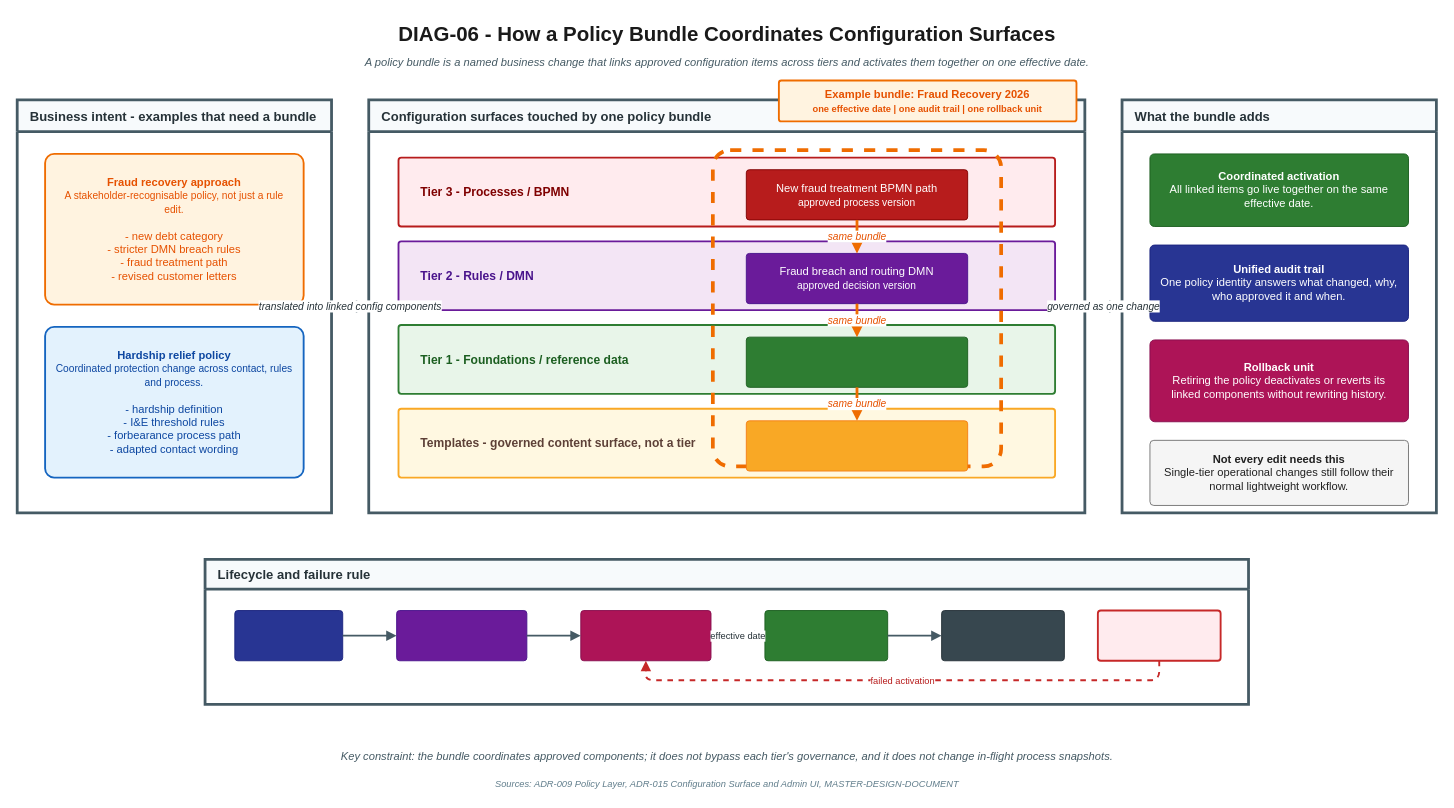
Image size: 1454x808. Some labels were removed from this diagram. The centre of each missing label's shape, as x and y in pixels:
"Activation failure rolls the attempted activation back to APPROVED, not DRAFT." goes at (x=1158, y=635).
"ACTIVE system activates" goes at (x=826, y=635).
"APPROVED sign-off held" goes at (x=645, y=635).
"DRAFT assemble" goes at (x=288, y=635).
"Fraud contact template wording approved communication version" goes at (x=856, y=445).
"Fraud debt category and action codes stable IDs used by rules" goes at (x=856, y=361).
"READY components approved" goes at (x=461, y=635).
"RETIRED superseded" goes at (x=1002, y=635).
